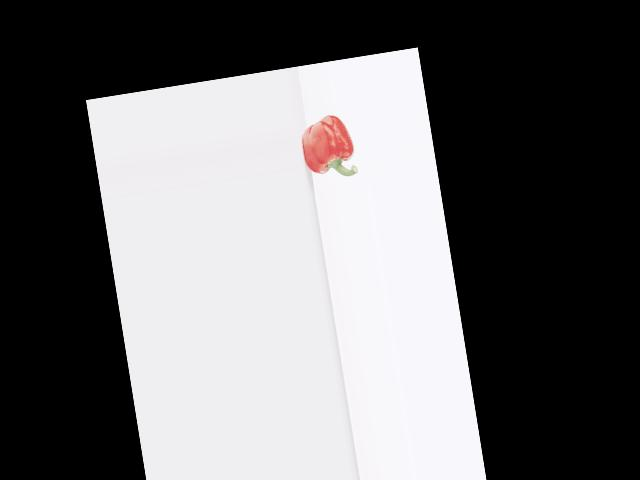bell_pepper: (295, 108, 361, 188)
